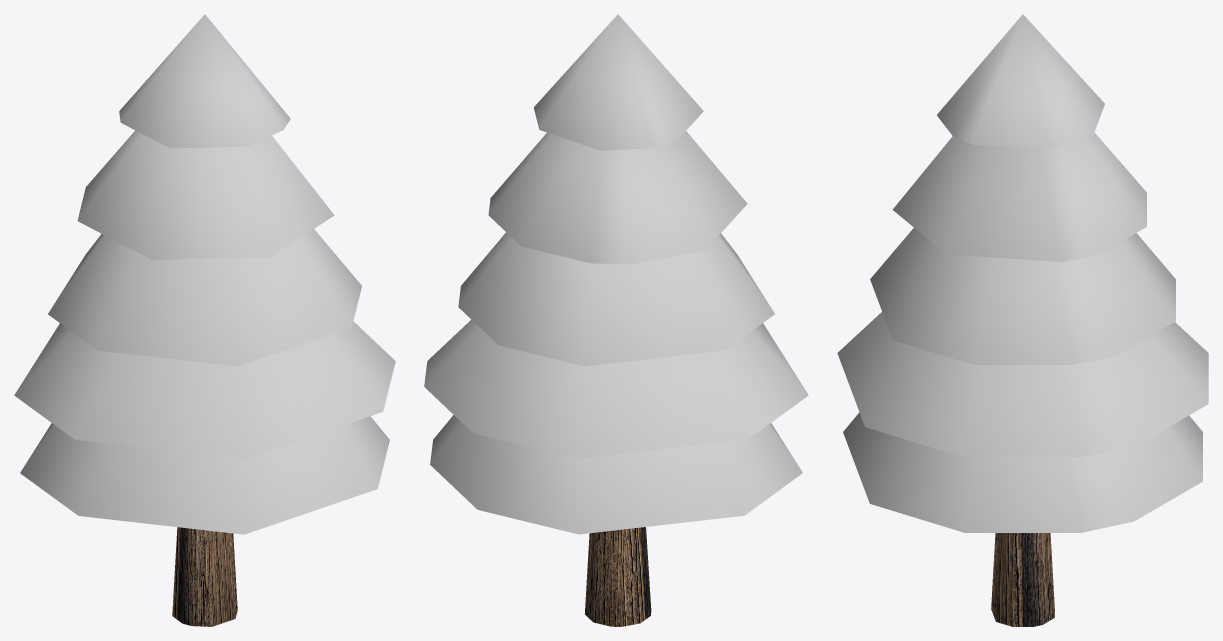
Rendered from елка_1.fbx.
3 views of the same model, side by side, from view 1: azimuth 30°, elevation 25°; view 2: azimuth 150°, elevation 25°; view 3: azimuth 270°, elevation 25° (orthographic).
Parts seen in each view (by area): view 1: pCone4, pCone3, pCone5, pCone2, pCone1, pCylinder1; view 2: pCone4, pCone3, pCone5, pCone2, pCone1, pCylinder1; view 3: pCone4, pCone3, pCone5, pCone2, pCone1, pCylinder1.
Boxes of the visible parts, x1,y1,x2,y2 form: pCone4: (14, 321, 395, 458); pCone3: (48, 229, 361, 366); pCone5: (20, 416, 389, 534); pCone2: (77, 130, 334, 259); pCone1: (119, 14, 290, 148); pCylinder1: (172, 527, 237, 626); pCone4: (424, 319, 808, 458); pCone3: (458, 232, 774, 366); pCone5: (430, 415, 802, 534); pCone2: (488, 131, 747, 264); pCone1: (533, 14, 703, 150); pCylinder1: (585, 527, 651, 626); pCone4: (837, 312, 1208, 456); pCone3: (870, 228, 1175, 364); pCone5: (843, 412, 1202, 532); pCone2: (892, 132, 1146, 262); pCone1: (937, 14, 1104, 149); pCylinder1: (991, 533, 1054, 626).
Bounding box in the file's own units: 11.09 × 19.75 × 11.09.
